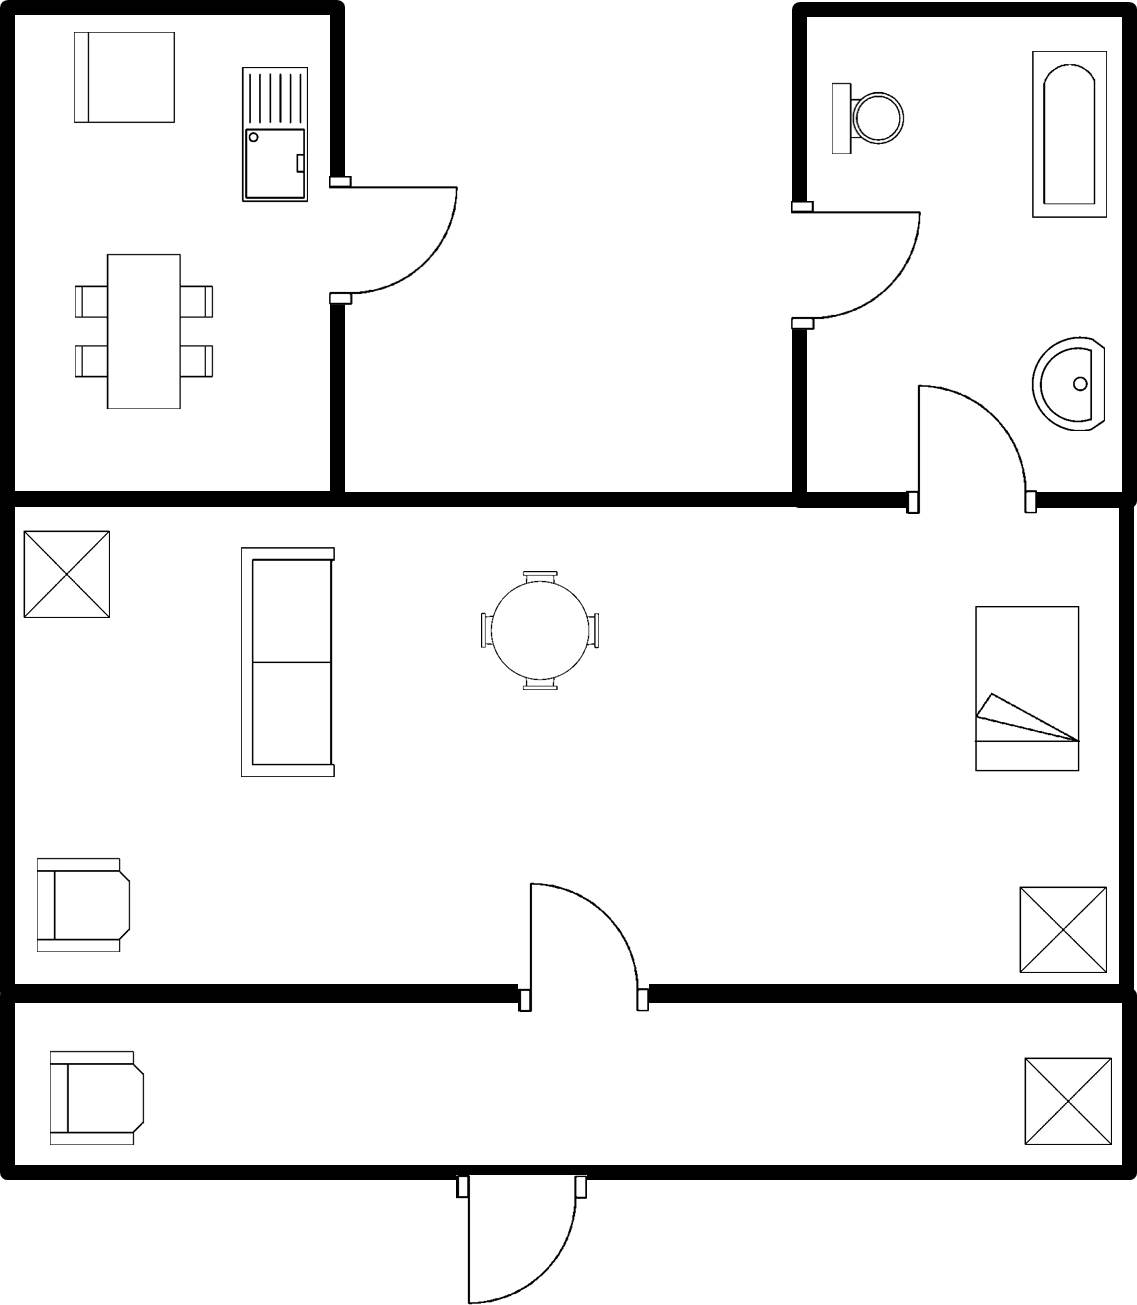armchair: (42, 1043, 154, 1152), (33, 850, 136, 960)
bed: (965, 596, 1089, 780)
coffee_table: (1011, 877, 1117, 981), (1018, 1050, 1116, 1155), (20, 523, 116, 629)
dining_table: (65, 246, 215, 421)
large_sink: (820, 75, 911, 162)
large_sofa: (230, 540, 345, 784)
round_table: (471, 562, 609, 700)
sink: (231, 60, 317, 213)
small_sink: (1025, 326, 1115, 437)
small_sofa: (66, 22, 188, 133)
tub: (1026, 42, 1113, 228)
